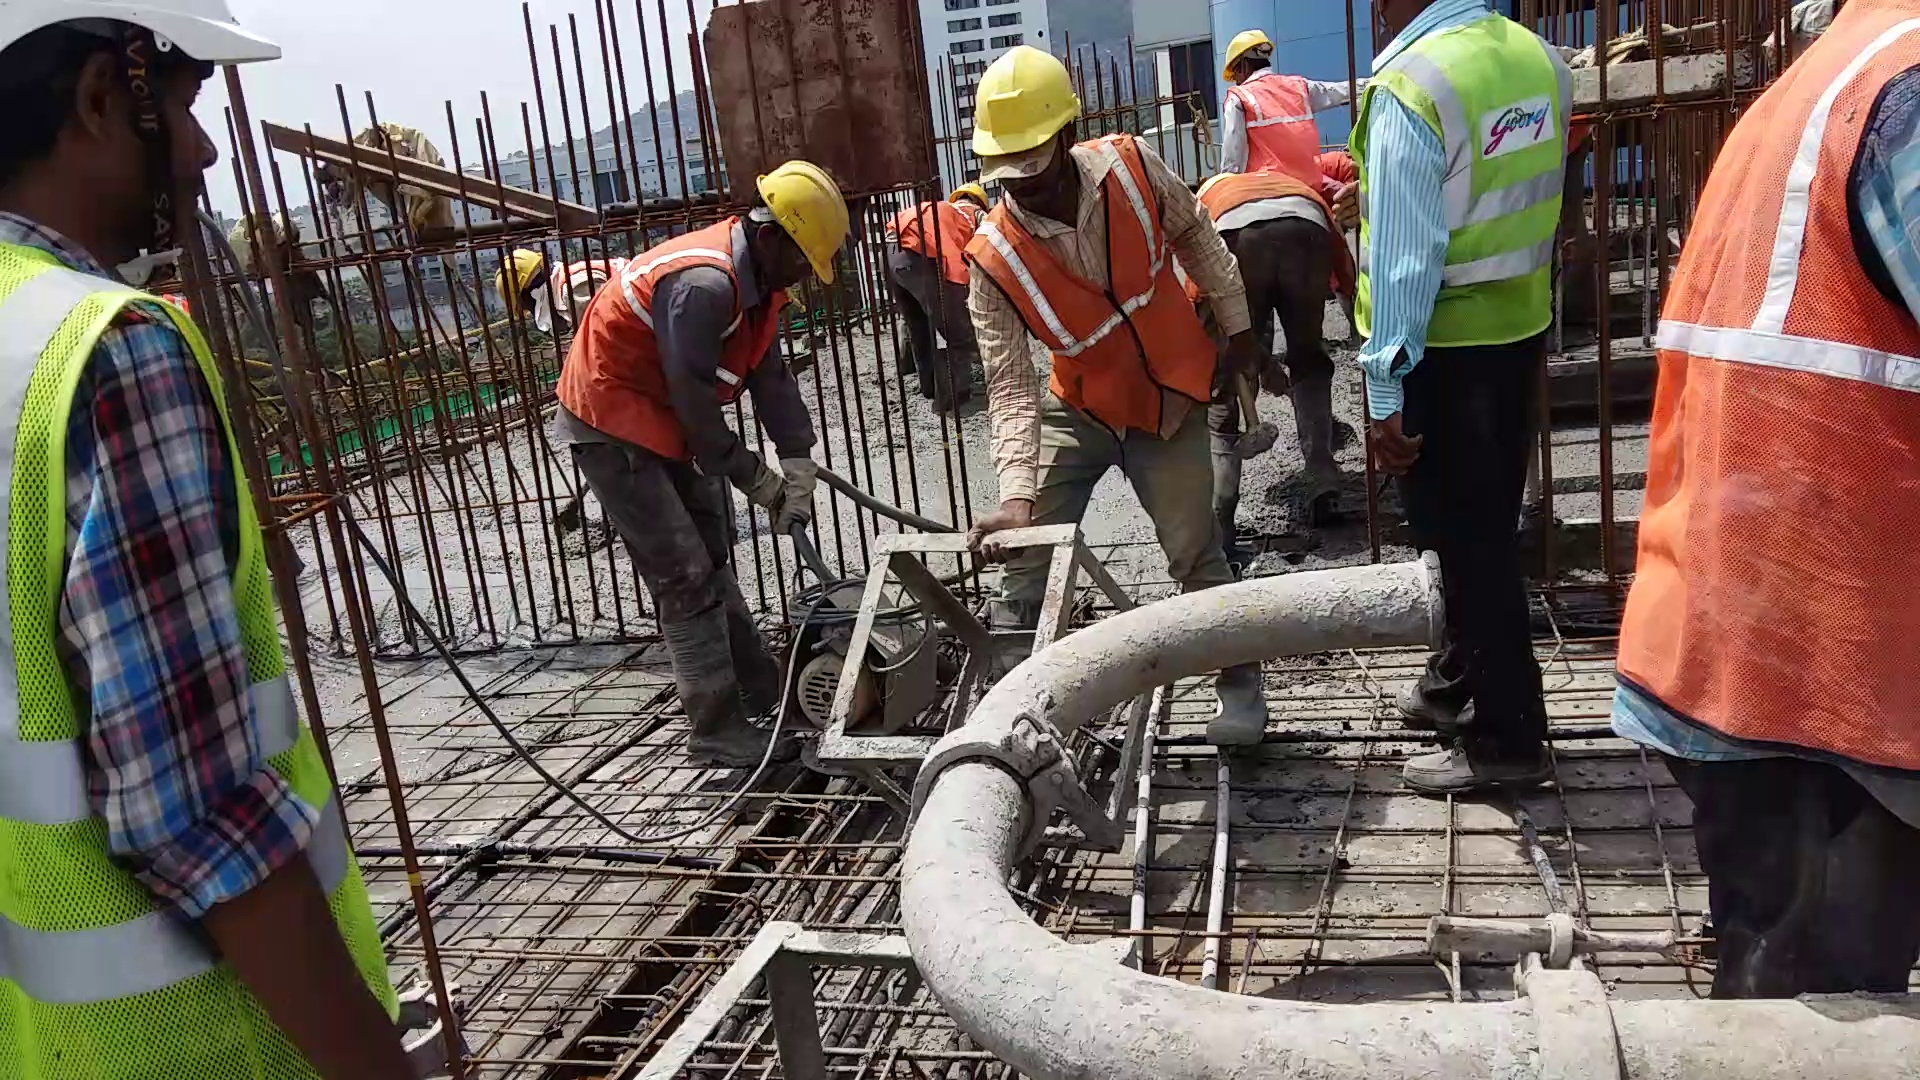SAFE: (3, 3, 287, 1054), (549, 161, 853, 456), (975, 42, 1167, 429), (1218, 33, 1316, 182)
